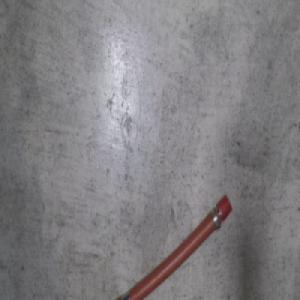Hose: (102, 190, 232, 300)
